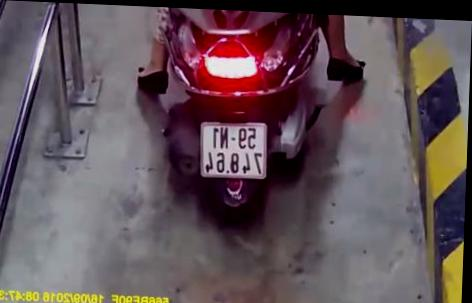License_Plate: (196, 116, 277, 185)
